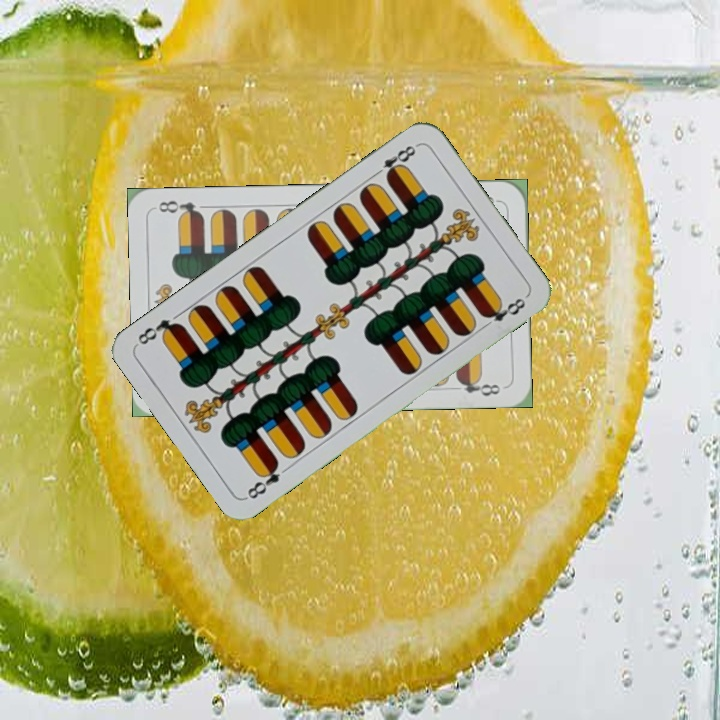E8: (369, 140, 421, 182), (243, 457, 283, 502)
